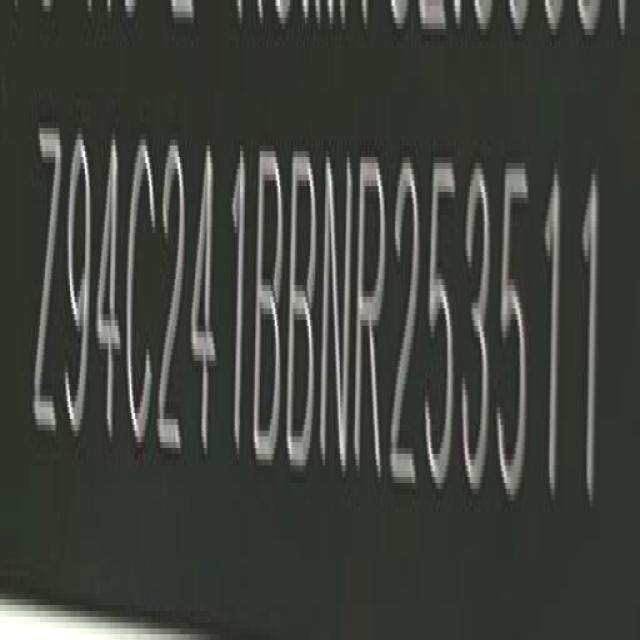1: (580, 171, 604, 525), (544, 162, 566, 520), (224, 140, 248, 466)
2: (392, 150, 424, 495), (157, 133, 187, 460)
3: (462, 159, 492, 503)
4: (192, 136, 221, 463), (97, 129, 125, 448)
5: (500, 153, 532, 513), (426, 152, 457, 503)
9: (65, 127, 93, 448)
B: (290, 141, 320, 476), (255, 139, 285, 470)
C: (127, 132, 157, 459)
N: (321, 142, 354, 478)
R: (354, 147, 386, 489)
Z: (35, 123, 63, 446)
